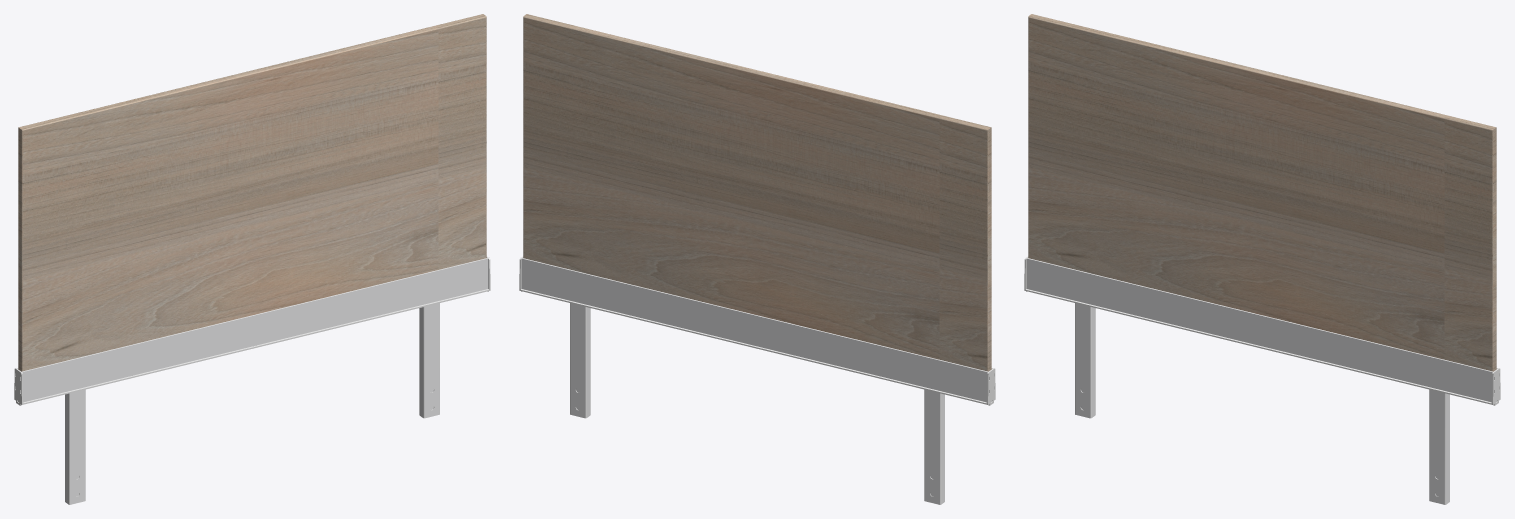
File: KUAC690000_120.glb
3 views of the same model, side by side, from view 1: azimuth 30°, elevation 25°; view 2: azimuth 150°, elevation 25°; view 3: azimuth 330°, elevation 25° (orthographic).
Parts seen in each view (by area): view 1: 0 (×4), 13_1; view 2: 0 (×4), 13_1; view 3: 0 (×4), 13_1.
Boxes of the visible parts, x1=… form: 0 (×4): x1=15, y1=14, x2=490, y2=404; 13_1: x1=65, y1=303, x2=439, y2=504; 0 (×4): x1=519, y1=14, x2=994, y2=404; 13_1: x1=570, y1=303, x2=944, y2=504; 0 (×4): x1=1024, y1=14, x2=1499, y2=404; 13_1: x1=1075, y1=303, x2=1449, y2=504.
Bounding box in the file's own units: 1.13 × 0.8886 × 0.032.
Materials: 3 (1 with a texture image).
